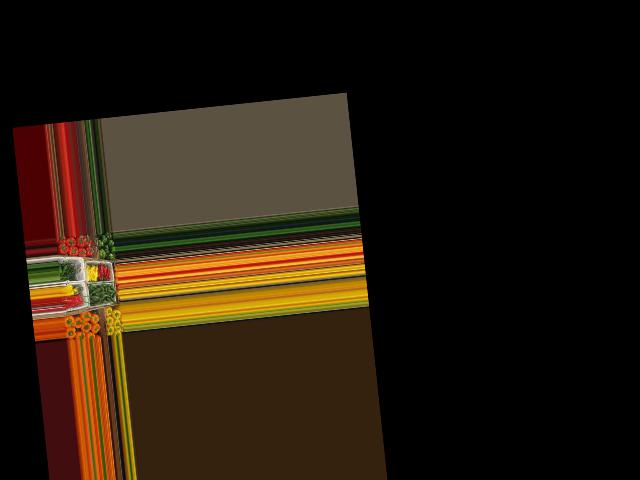bell_pepper: (95, 238, 107, 249)
